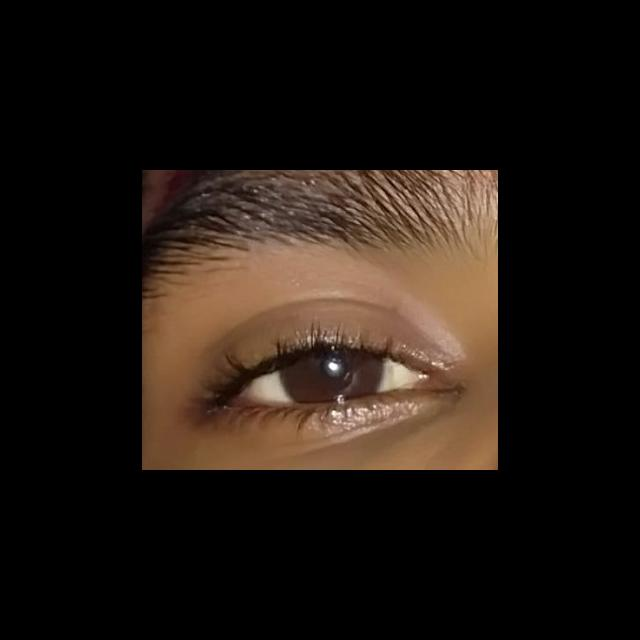eye: (238, 347, 421, 403)
iris: (278, 349, 383, 402)
